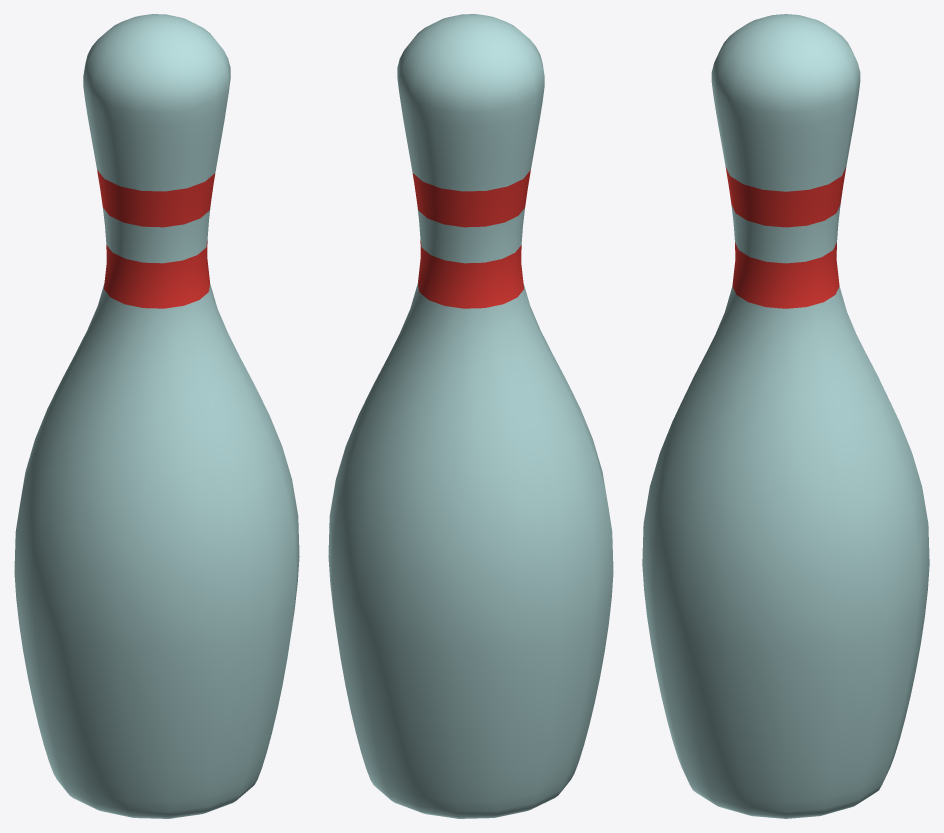
3 views of the same model, side by side, from view 1: azimuth 30°, elevation 25°; view 2: azimuth 150°, elevation 25°; view 3: azimuth 270°, elevation 25° (orthographic).
Parts seen in each view (by area): view 1: pinStripe_3; view 2: pinStripe_3; view 3: pinStripe_3.
Boxes of the visible parts, <box> form: pinStripe_3: <box>14,14,299,818</box>; pinStripe_3: <box>328,14,613,818</box>; pinStripe_3: <box>642,14,929,818</box>.
Size of the model in its own units: 0.1126 by 0.3333 by 0.1126.
